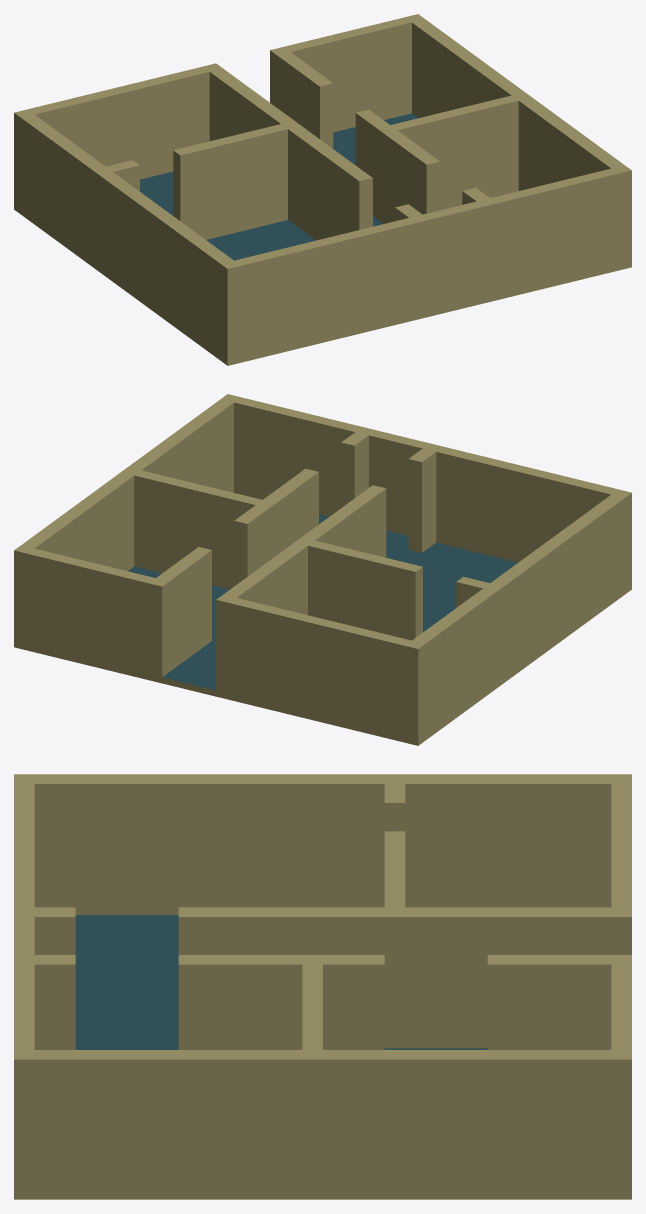
Rendered from FloorPlan.fbx.
3 renders of one model, top to bottom at view 1: azimuth 30°, elevation 25°; view 2: azimuth 150°, elevation 25°; view 3: azimuth 270°, elevation 25°, orthographic. The views are drawn at different scales.
Visible parts, largest first — view 1: FloorPlan; view 2: FloorPlan; view 3: FloorPlan.
Part boxes in pixels (x1,y1,x2,y2): FloorPlan: (14,14,631,365); FloorPlan: (14,394,631,745); FloorPlan: (14,774,631,1199).
Bounding box in the file's own units: 417 × 95.53 × 382.
